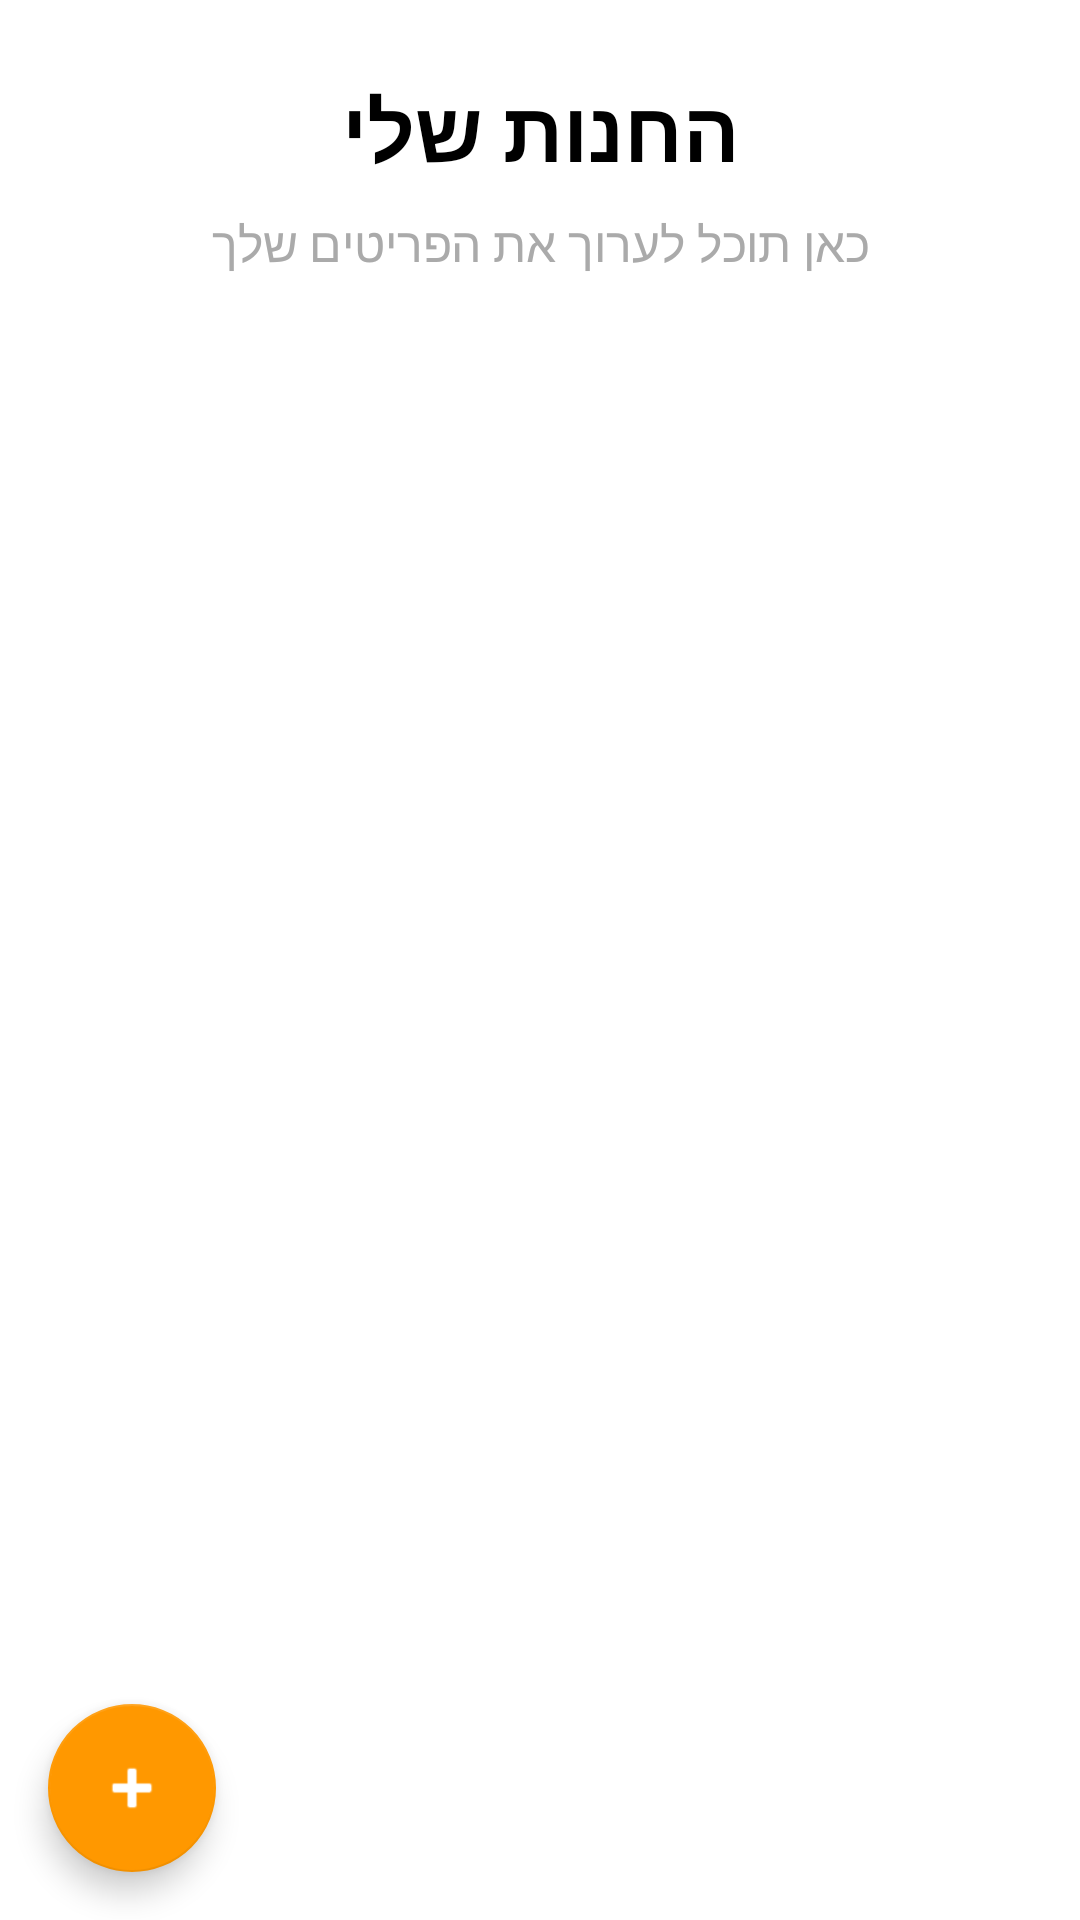

Point at icon controls on the screen. Image size 1080×1920, points as (x,y).
הוסף פריט חדש: (132,1788)
